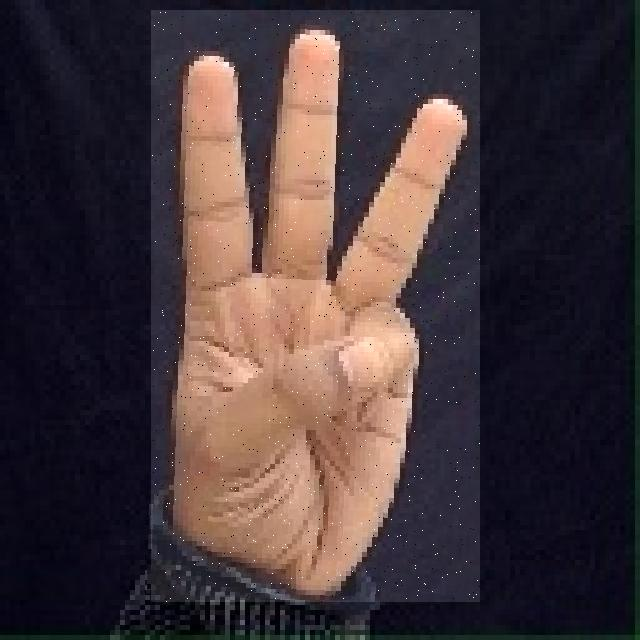Please: (151, 10, 480, 602)
